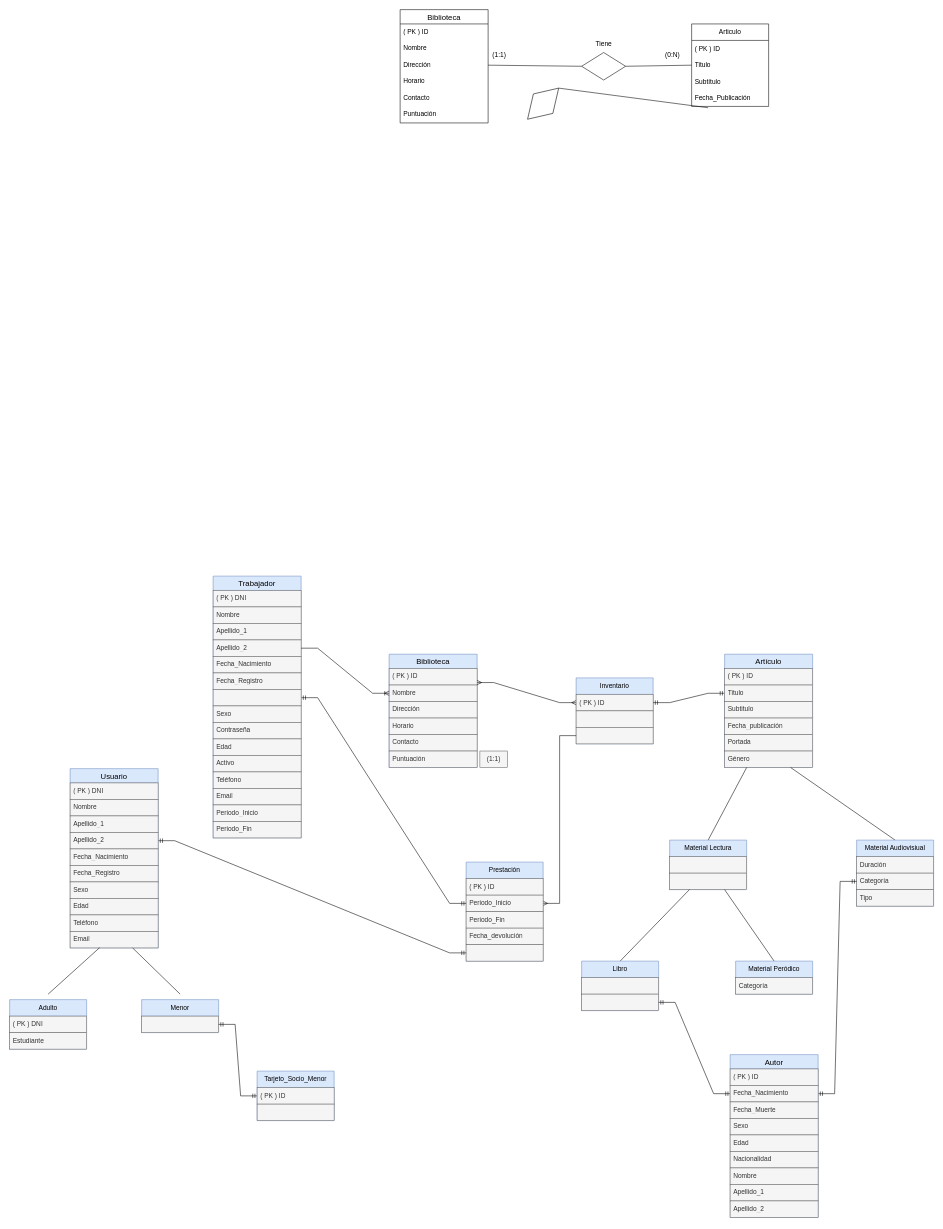
Image size: 943x1229. Some labels were removed from this diagram. Each missing label, with the centre of its shape:
( PK ) DNI_Padre: (180,1024)
Color: (295,1112)
Disponible: (614,718)
Editorial: (708,881)
Estilo: (620,985)
Nombre_Usuario: (257,697)
Número_Pag: (708,864)
Sinopsis: (620,1002)
Stock: (614,735)
Vigente: (504,952)
